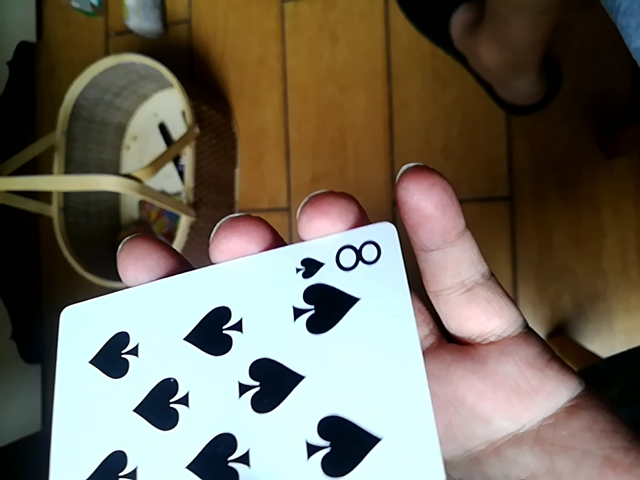ht 8: (48, 212, 443, 476)
